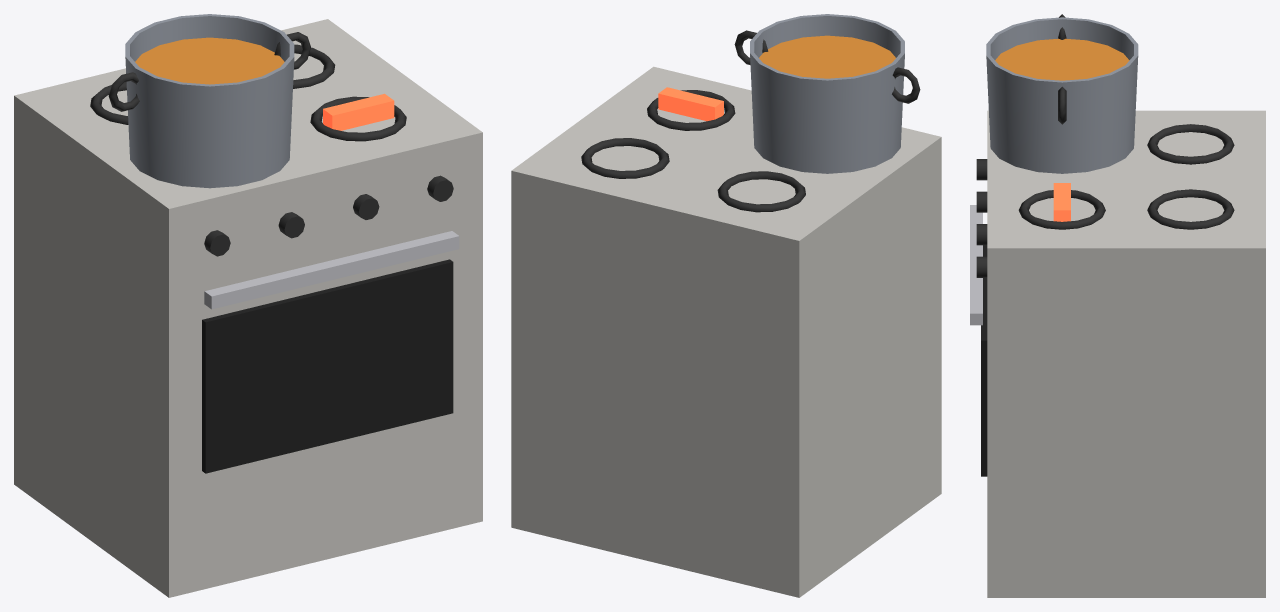
The model's file is stove.glb.
3 views of the same model, side by side, from view 1: azimuth 30°, elevation 25°; view 2: azimuth 150°, elevation 25°; view 3: azimuth 270°, elevation 25° (orthographic). The views are drawn at different scales.
Visible parts, largest first — view 1: main, soup, burner_glow; view 2: main, soup, burner_glow; view 3: main, soup, burner_glow.
Boxes of the visible parts, bbox=[...] form: main: bbox=[14, 14, 482, 597]; soup: bbox=[135, 37, 284, 84]; burner_glow: bbox=[323, 93, 394, 130]; main: bbox=[511, 14, 941, 597]; soup: bbox=[759, 35, 895, 78]; burner_glow: bbox=[658, 87, 723, 121]; main: bbox=[970, 14, 1265, 597]; soup: bbox=[995, 38, 1129, 80]; burner_glow: bbox=[1053, 183, 1070, 221].
Size of the model in its own units: 0.805 by 1.15 by 0.69.
